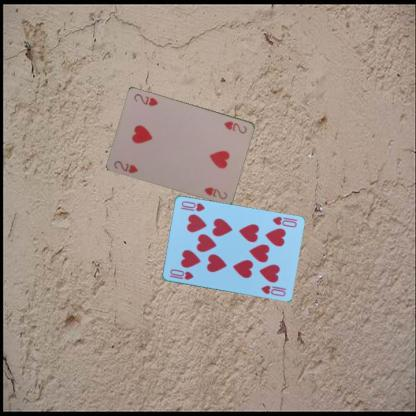10h: (166, 266, 195, 282), (270, 214, 297, 229)
2h: (221, 118, 249, 134), (112, 158, 139, 174)
